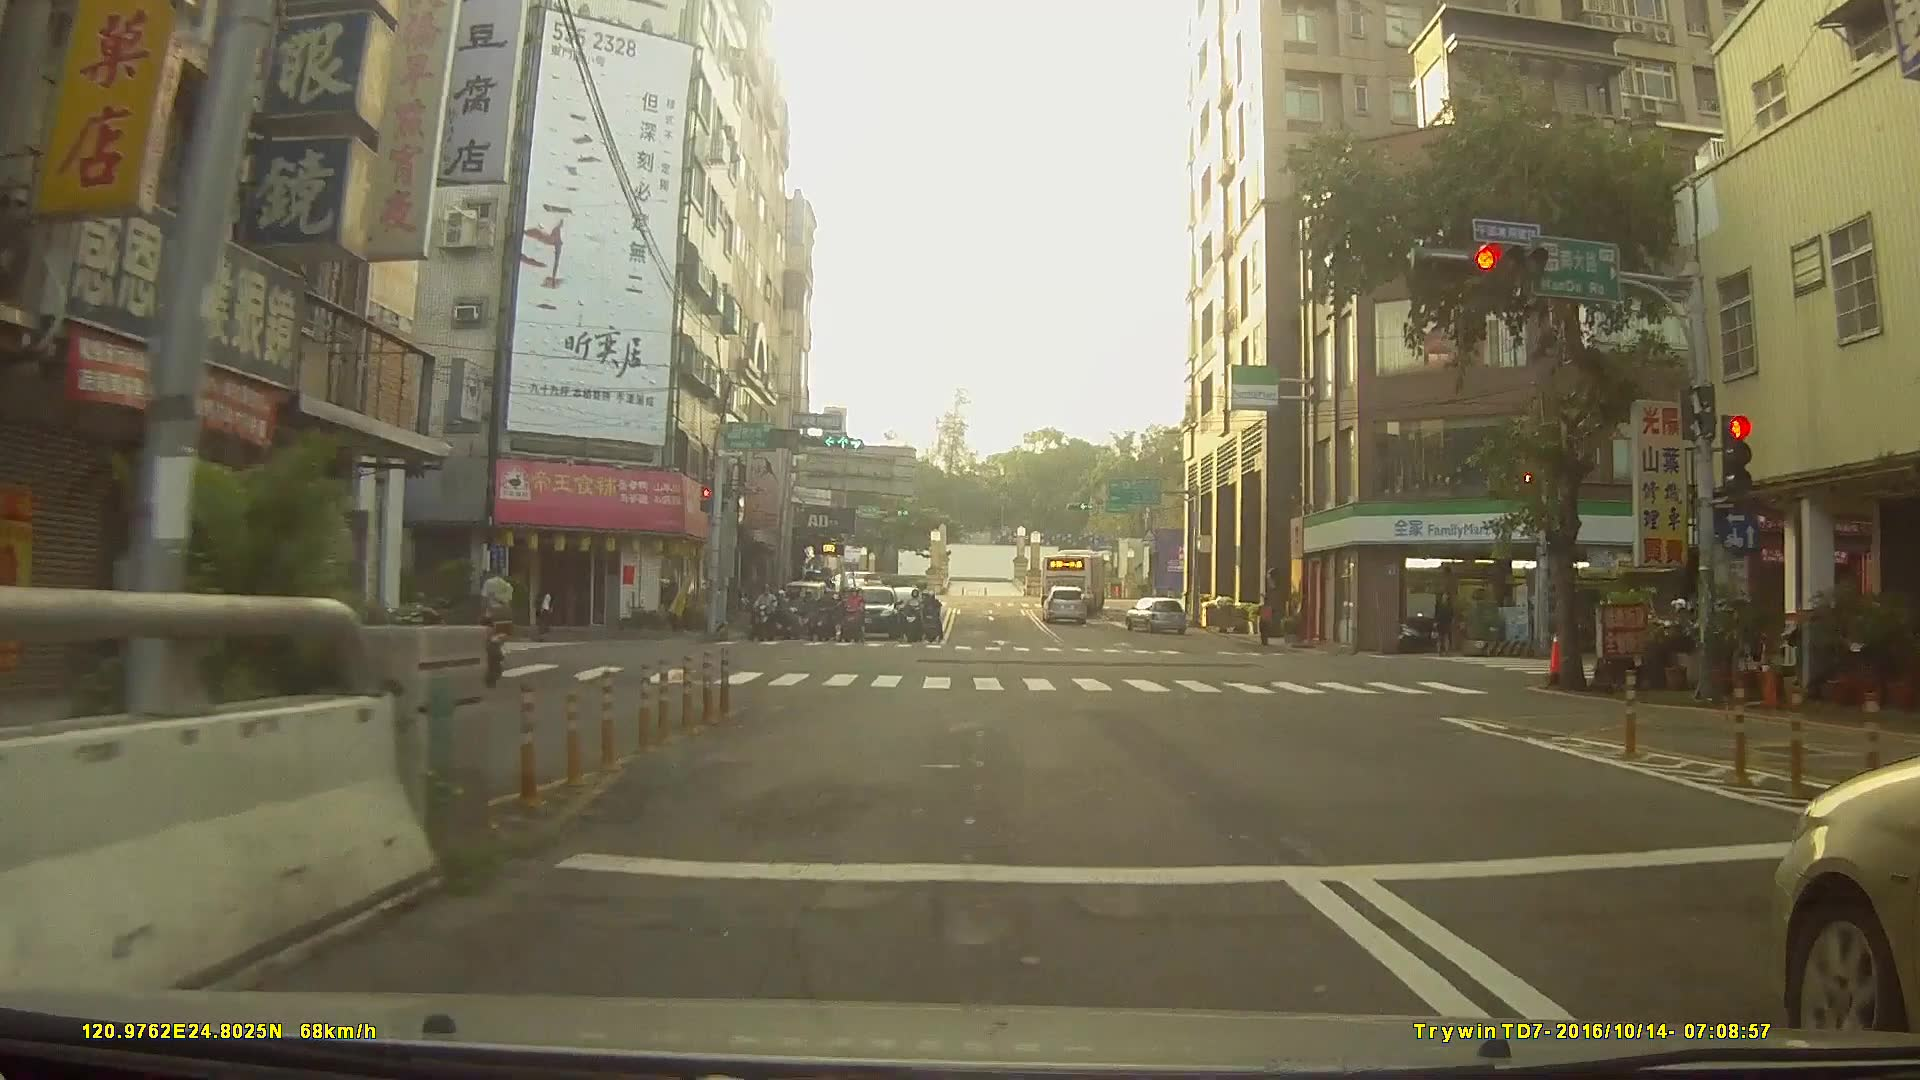pedestrian: (475, 562, 521, 664), (1429, 587, 1458, 658), (538, 582, 558, 642), (1257, 596, 1277, 649)
rider: (750, 583, 780, 645), (837, 588, 866, 646), (815, 586, 840, 644), (782, 589, 808, 642), (902, 587, 925, 643), (920, 599, 942, 652)
vehicle: (1039, 545, 1111, 614), (840, 583, 901, 643), (1122, 594, 1187, 634), (1040, 585, 1091, 624), (829, 567, 883, 594)
